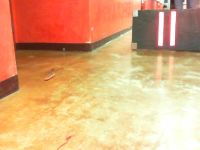switch: (157, 12, 164, 47), (169, 11, 176, 46)
